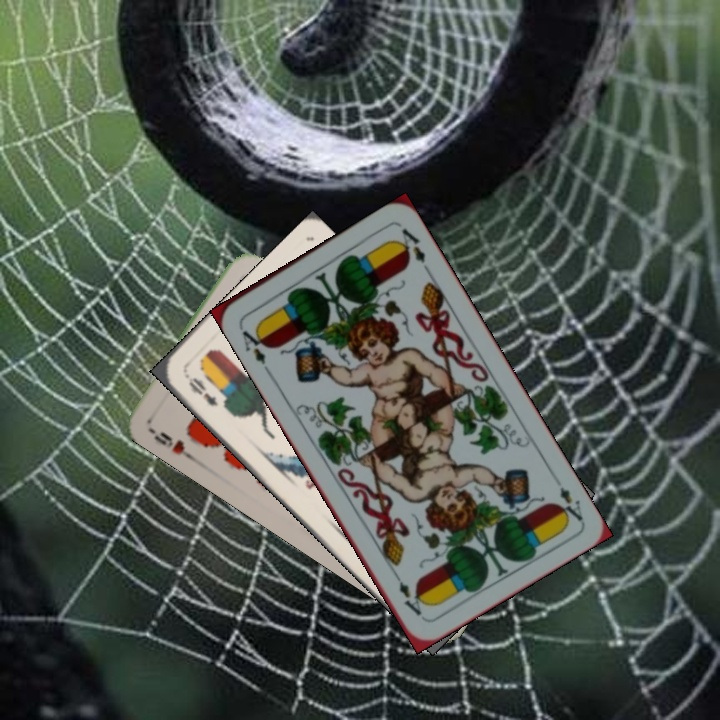EA: (235, 321, 273, 367), (553, 482, 586, 526)
EO: (181, 370, 221, 409)
H9: (146, 424, 199, 464)
